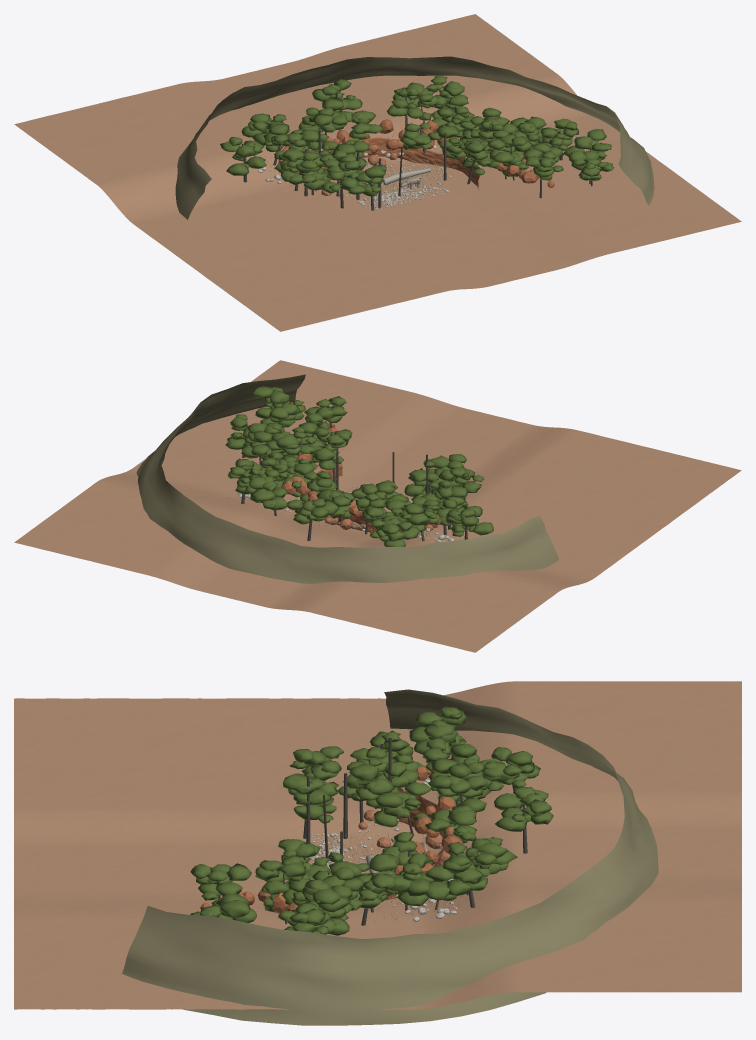
3 views of the same model, one above another, from view 1: azimuth 30°, elevation 25°; view 2: azimuth 150°, elevation 25°; view 3: azimuth 270°, elevation 25° (orthographic). The views are drawn at different scales.
Visible parts, largest first — view 1: Ground.001, Canopies.001, Hill.001, RockWall.001, Rocks.001, TreeTrunks.001; view 2: Ground.001, Hill.001, Canopies.001, RockWall.001; view 3: Ground.001, Hill.001, Canopies.001, RockWall.001, Rocks.001, BackTrunks.001, TreeTrunks.001, Boulders.001.
Boxes of the visible parts, <box> form: Ground.001: <box>14,14,741,331</box>; Canopies.001: <box>220,75,614,196</box>; Hill.001: <box>175,56,654,219</box>; RockWall.001: <box>278,119,554,191</box>; Rocks.001: <box>258,125,451,209</box>; TreeTrunks.001: <box>243,94,592,210</box>; Ground.001: <box>14,360,741,652</box>; Hill.001: <box>136,374,558,583</box>; Canopies.001: <box>225,386,493,546</box>; RockWall.001: <box>281,422,440,532</box>; Ground.001: <box>14,681,741,1009</box>; Hill.001: <box>122,689,658,1025</box>; Canopies.001: <box>190,706,553,935</box>; RockWall.001: <box>200,766,463,913</box>; Rocks.001: <box>306,779,460,922</box>; BackTrunks.001: <box>306,738,391,861</box>; TreeTrunks.001: <box>218,744,527,934</box>; Boulders.001: <box>358,809,463,865</box>.
Size of the model in its own units: 91.34 by 12.7 by 90.
